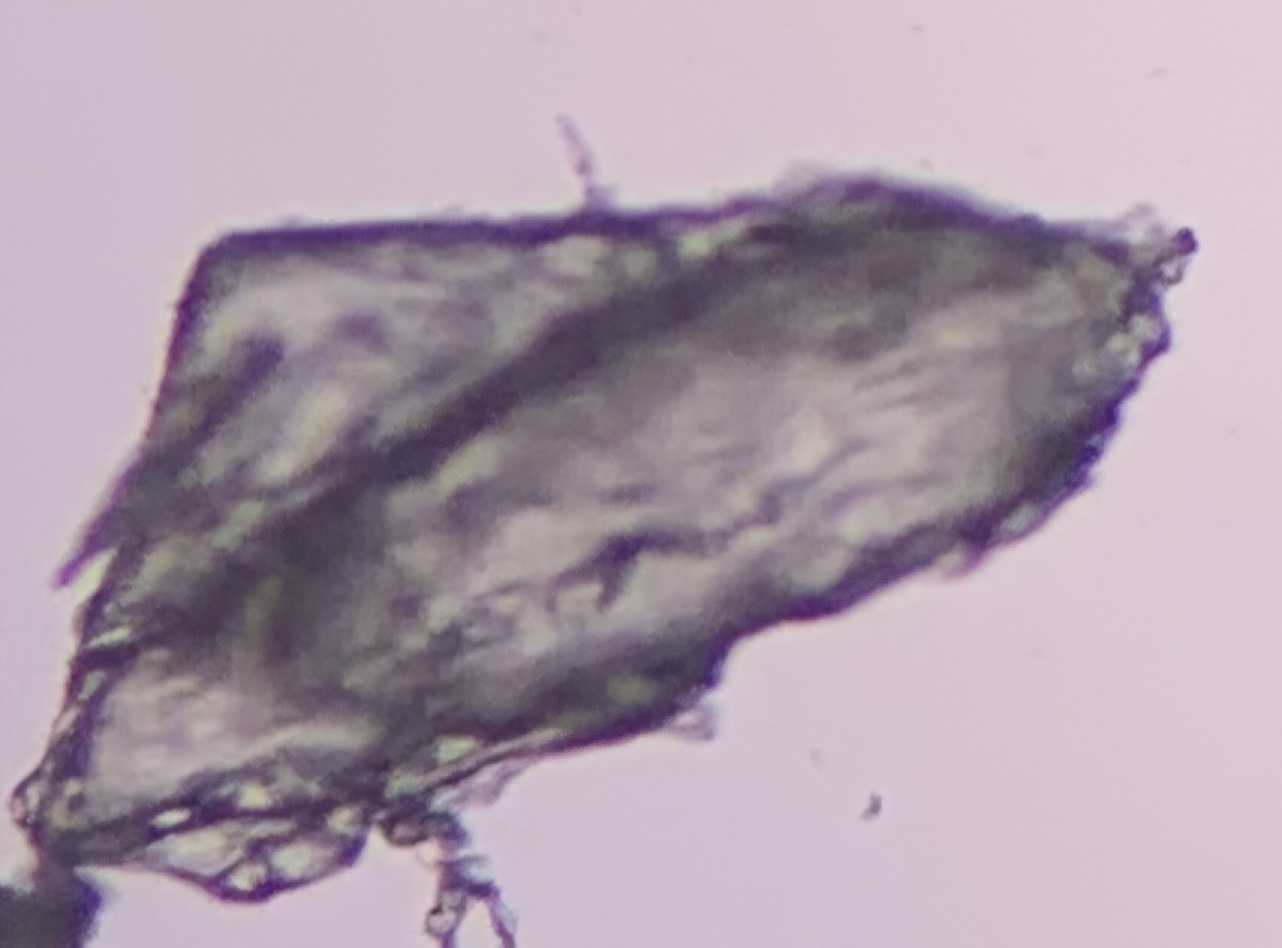microplastic: (1, 107, 1198, 948)
